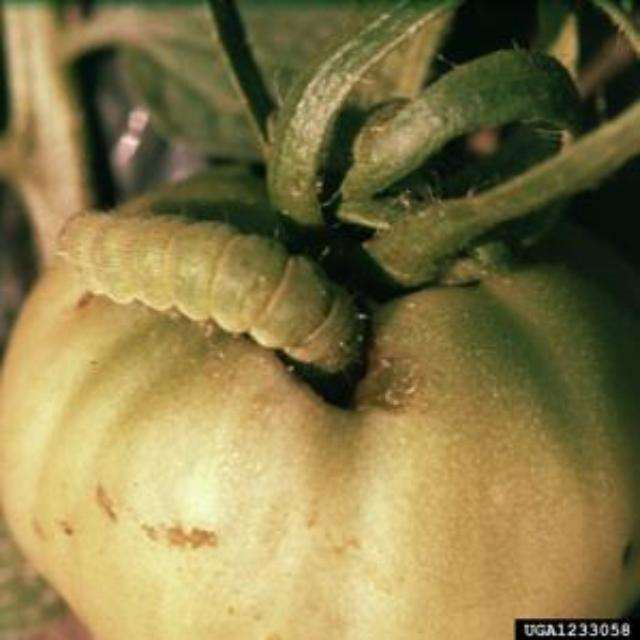Cotton bollworm: (38, 176, 408, 410)
